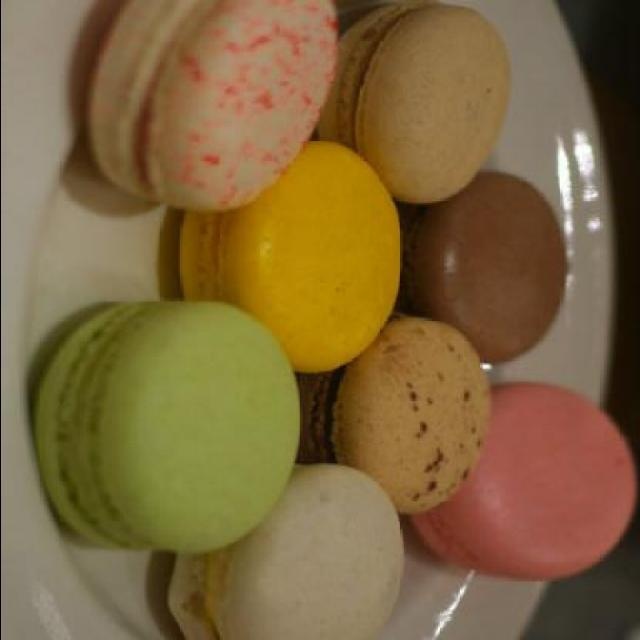Macaron: (31, 8, 634, 640)
